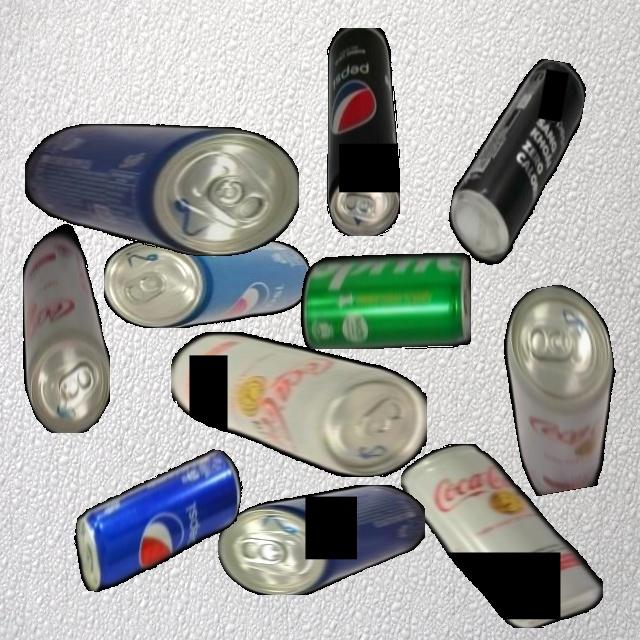debris: (401, 443, 603, 628), (170, 332, 427, 477), (24, 124, 299, 256), (441, 48, 590, 282), (66, 429, 248, 613), (493, 278, 634, 497), (218, 484, 425, 595), (22, 218, 110, 433), (104, 237, 310, 328), (300, 252, 471, 349), (326, 27, 400, 236)
